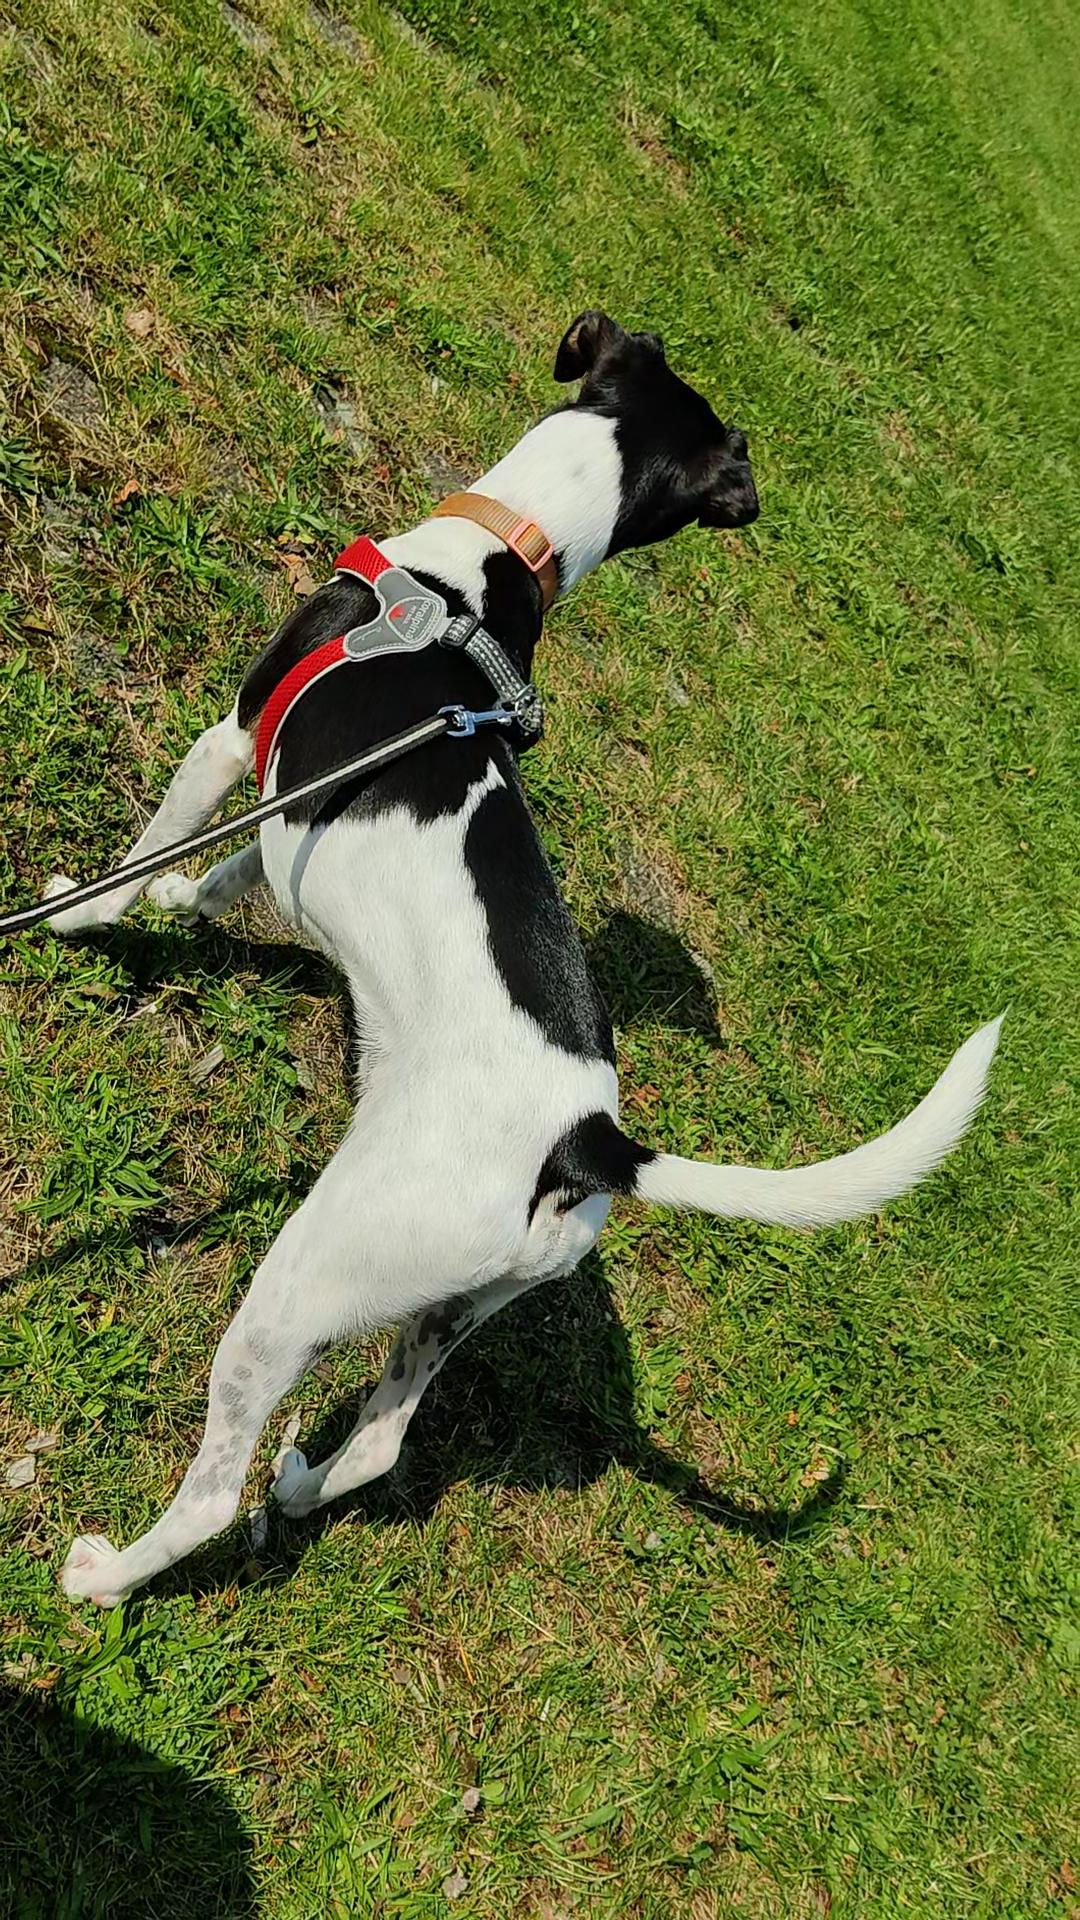Dog: (32, 295, 1019, 1611)
